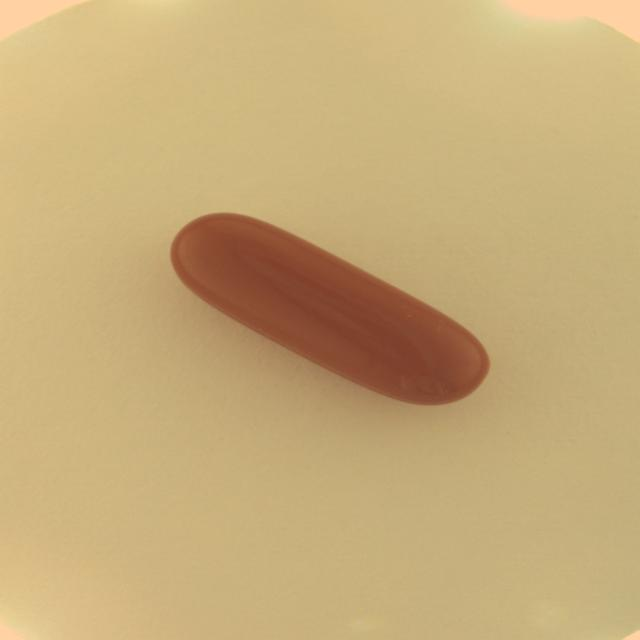Oval: (165, 207, 498, 410)
